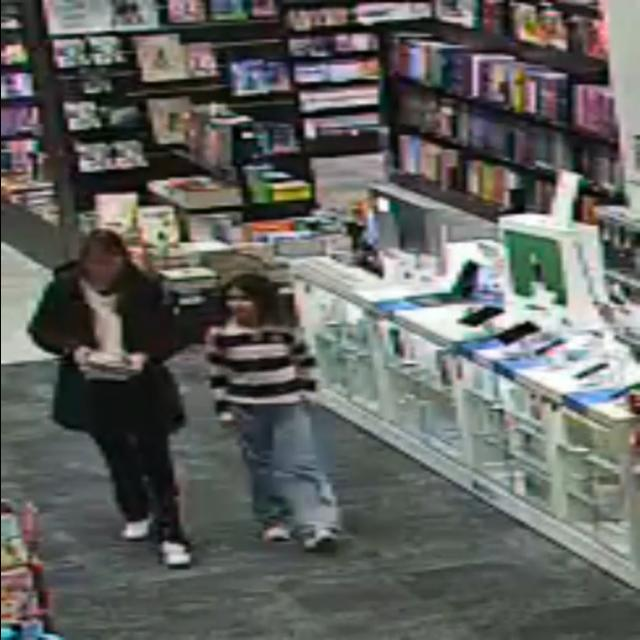article: (89, 351, 130, 374)
hands: (73, 347, 92, 369), (128, 353, 148, 372), (219, 412, 236, 429)
person: (29, 230, 190, 567), (207, 273, 338, 551)
